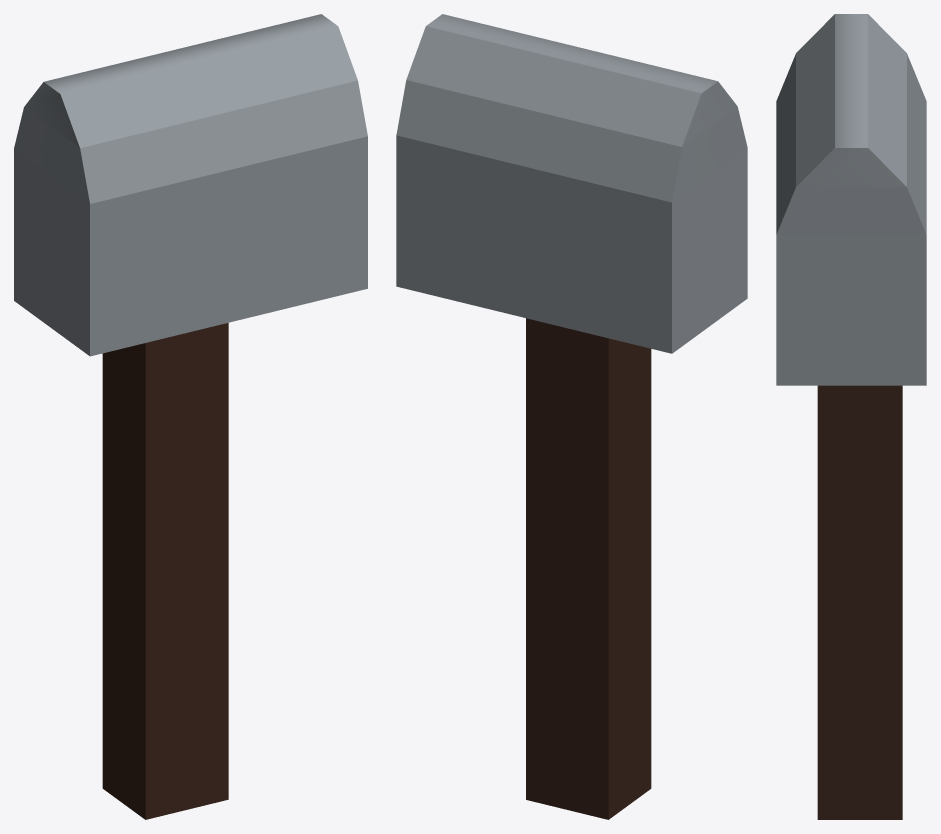
File: Buzon.fbx
3 renders of one model, left to right at view 1: azimuth 30°, elevation 25°; view 2: azimuth 150°, elevation 25°; view 3: azimuth 270°, elevation 25°, orthographic.
Parts seen in each view (by area): view 1: Cube.144; view 2: Cube.144; view 3: Cube.144.
Part boxes in pixels (bbox=[...]): Cube.144: bbox=[14, 14, 367, 819]; Cube.144: bbox=[396, 14, 747, 819]; Cube.144: bbox=[776, 14, 926, 819].
Size of the model in its own units: 54.33 by 138 by 25.76.
